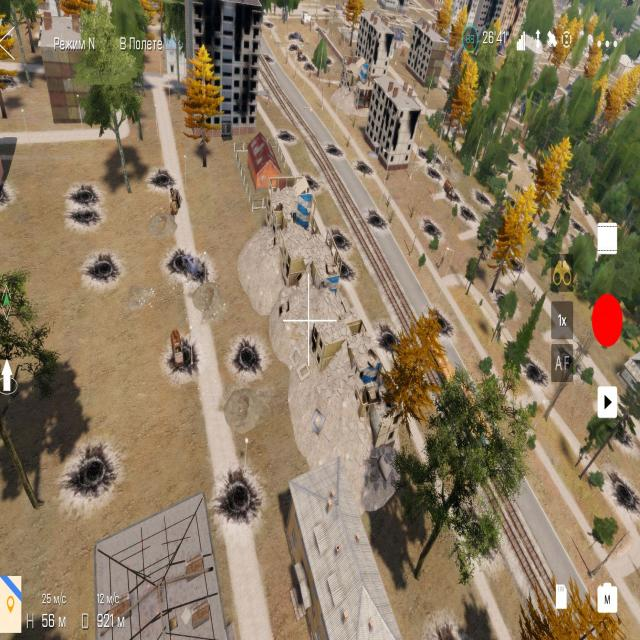fortification: (85, 496, 241, 640), (281, 463, 403, 640), (286, 270, 406, 447), (34, 4, 133, 135), (182, 0, 269, 140), (264, 166, 328, 279), (357, 78, 421, 176), (346, 6, 398, 83), (399, 24, 453, 83), (236, 131, 278, 200)
vehicle: (162, 316, 197, 384), (161, 184, 196, 227), (175, 246, 207, 286), (438, 177, 460, 214)
